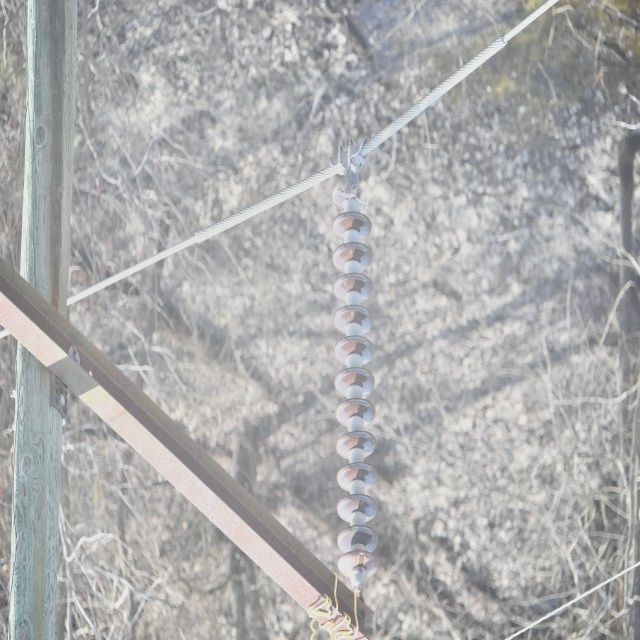broken: (334, 183, 369, 207)
insulator: (330, 183, 378, 581)
